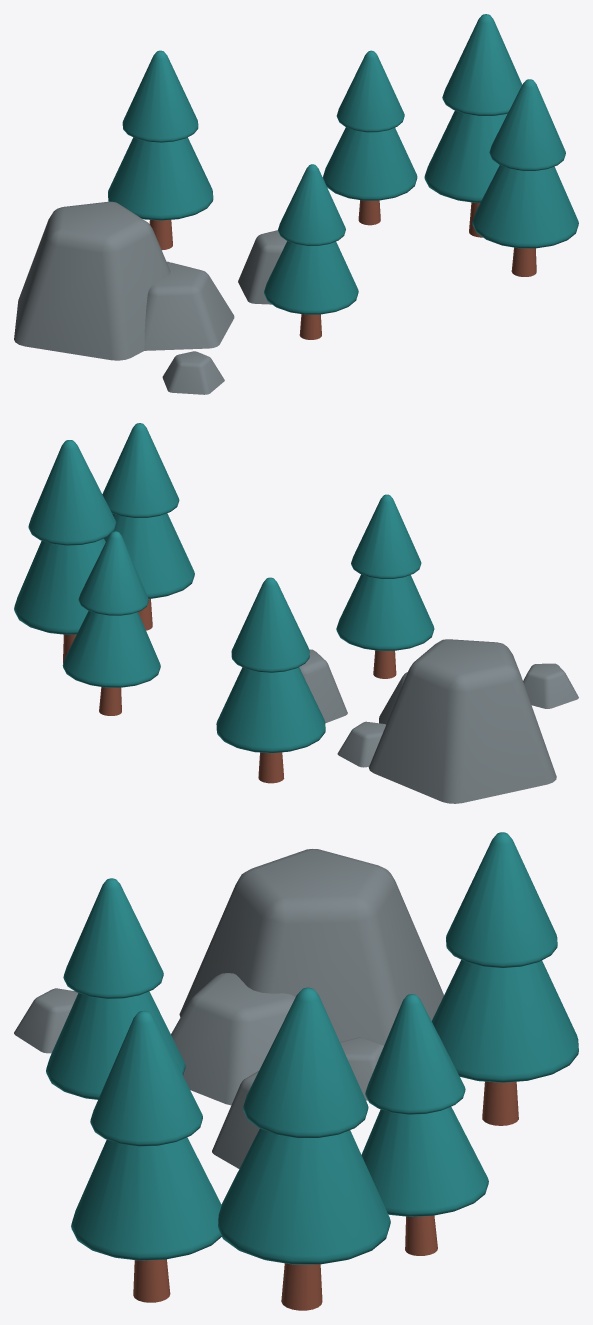
File: detail_forestA.gltf.glb
3 renders of one model, top to bottom at view 1: azimuth 30°, elevation 25°; view 2: azimuth 150°, elevation 25°; view 3: azimuth 270°, elevation 25°, orthographic. The views are drawn at different scales.
Visible parts, largest first — view 1: detail_forestA; view 2: detail_forestA; view 3: detail_forestA.
Part boxes in pixels (box(x1,y1,x2,y2)): detail_forestA: box(14, 14, 578, 394); detail_forestA: box(14, 423, 578, 803); detail_forestA: box(14, 832, 578, 1310).
Bounding box in the file's own units: 60313 × 24041 × 38775.
